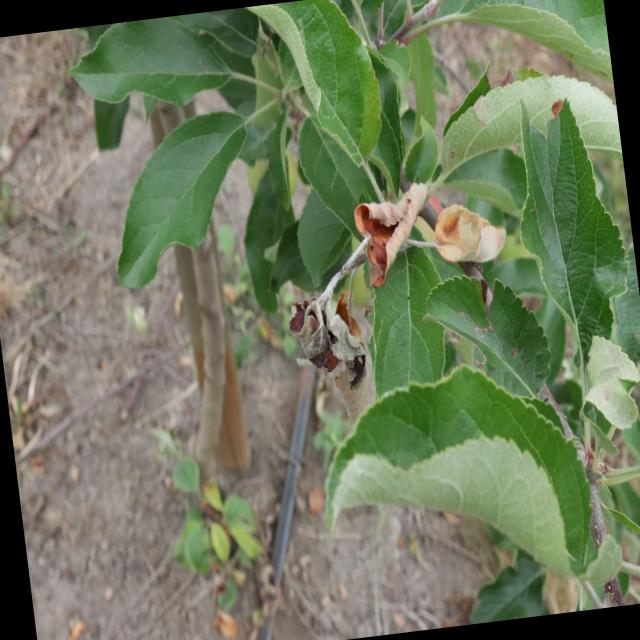-FireBlight-: (290, 280, 385, 394), (418, 198, 518, 280), (353, 184, 434, 285)
